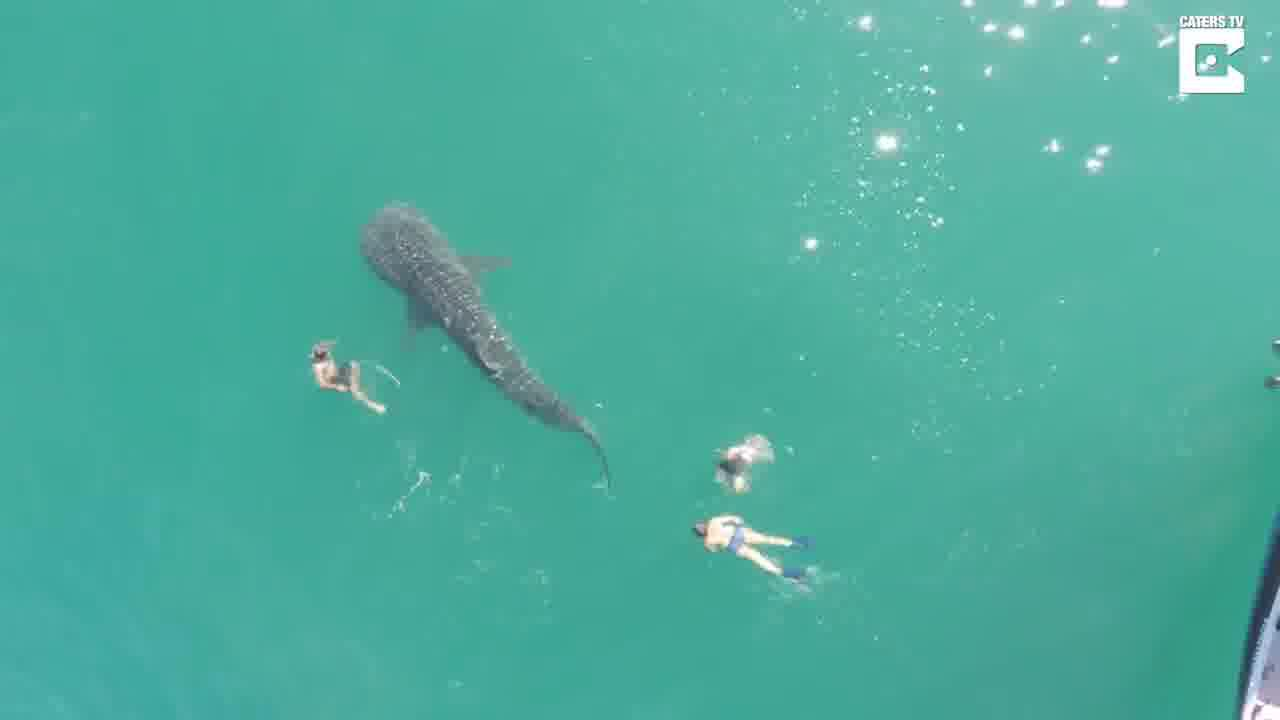human: (692, 510, 837, 590), (307, 340, 398, 420), (705, 432, 785, 504)
